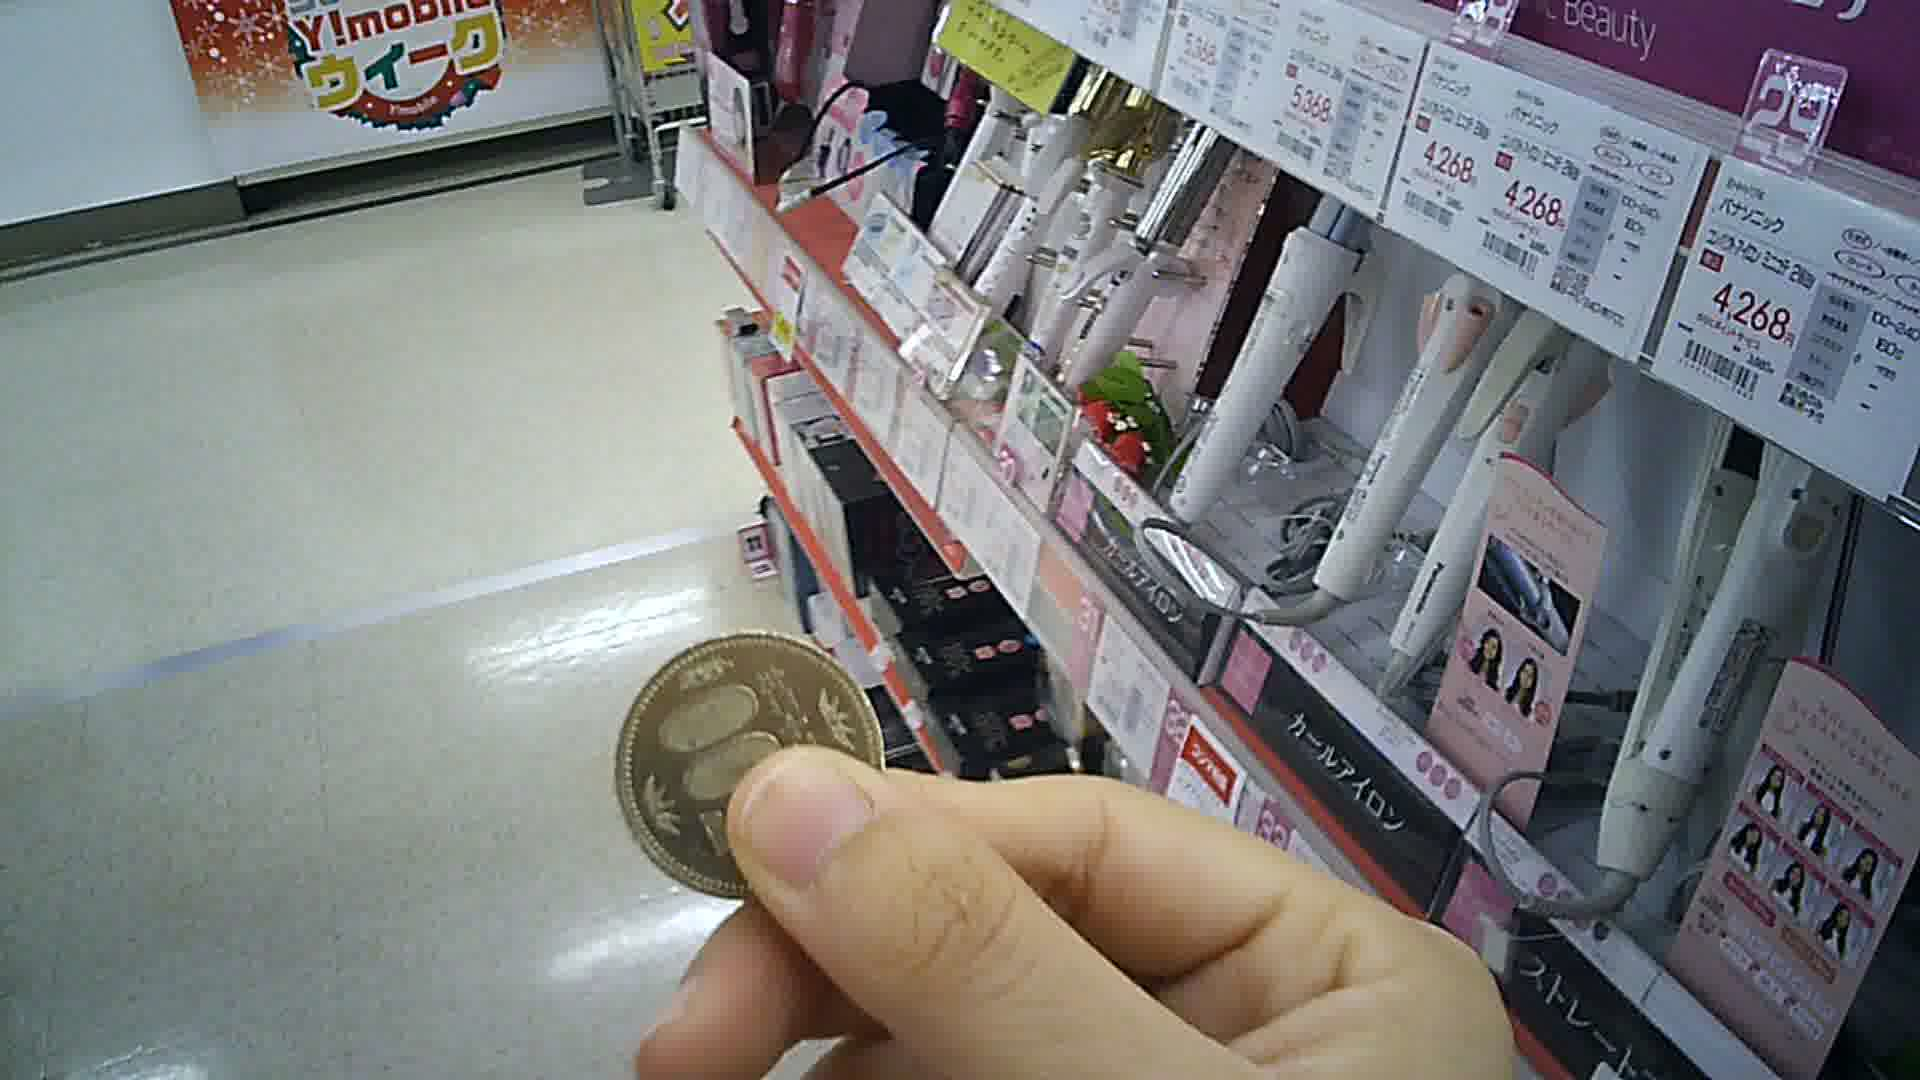500 Yen: (601, 637, 895, 911)
